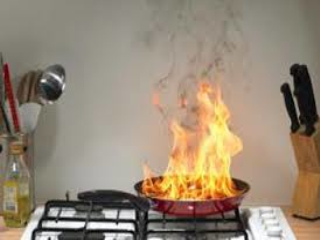fire: (149, 67, 252, 204)
